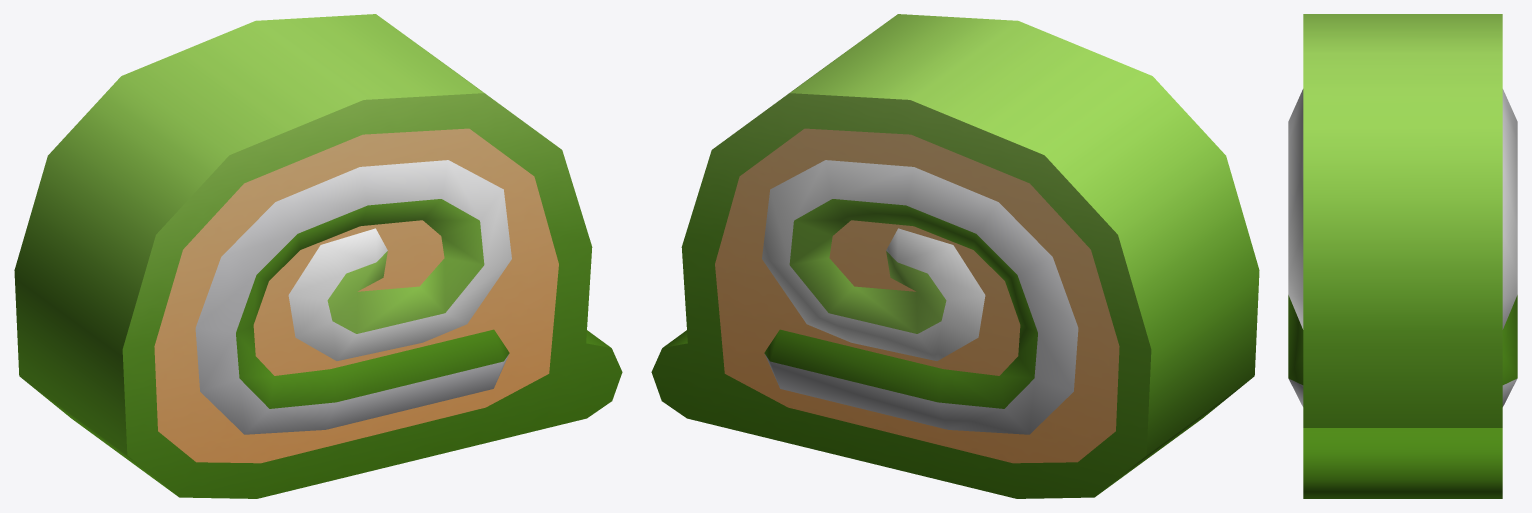
Rendered from m_BiscuitRoll04_Slice02.fbx.
3 views of the same model, side by side, from view 1: azimuth 30°, elevation 25°; view 2: azimuth 150°, elevation 25°; view 3: azimuth 270°, elevation 25° (orthographic). The views are drawn at different scales.
Parts seen in each view (by area): view 1: m_BiscuitRoll04_Slice02; view 2: m_BiscuitRoll04_Slice02; view 3: m_BiscuitRoll04_Slice02.
Part boxes in pixels (x1,y1,x2,y2): m_BiscuitRoll04_Slice02: [14, 14, 622, 498]; m_BiscuitRoll04_Slice02: [651, 14, 1259, 498]; m_BiscuitRoll04_Slice02: [1288, 14, 1517, 498].
Bounding box in the file's own units: 10.68 × 7.61 × 4.6.
